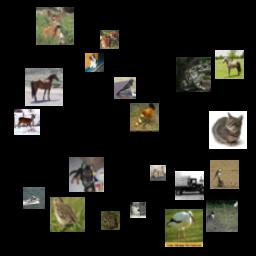bird: (165, 209, 203, 247), (50, 197, 85, 232), (130, 103, 159, 132), (210, 160, 239, 189), (114, 77, 136, 99)
cat: (209, 111, 247, 149), (206, 200, 238, 232), (130, 202, 146, 218), (150, 165, 166, 181)
deer: (36, 7, 74, 45), (14, 109, 40, 135), (100, 30, 119, 49)
dog: (69, 157, 104, 192), (85, 53, 104, 72)
frog: (176, 57, 211, 92), (101, 211, 120, 230)
ship: (23, 187, 45, 209)
truck: (175, 171, 204, 200)
